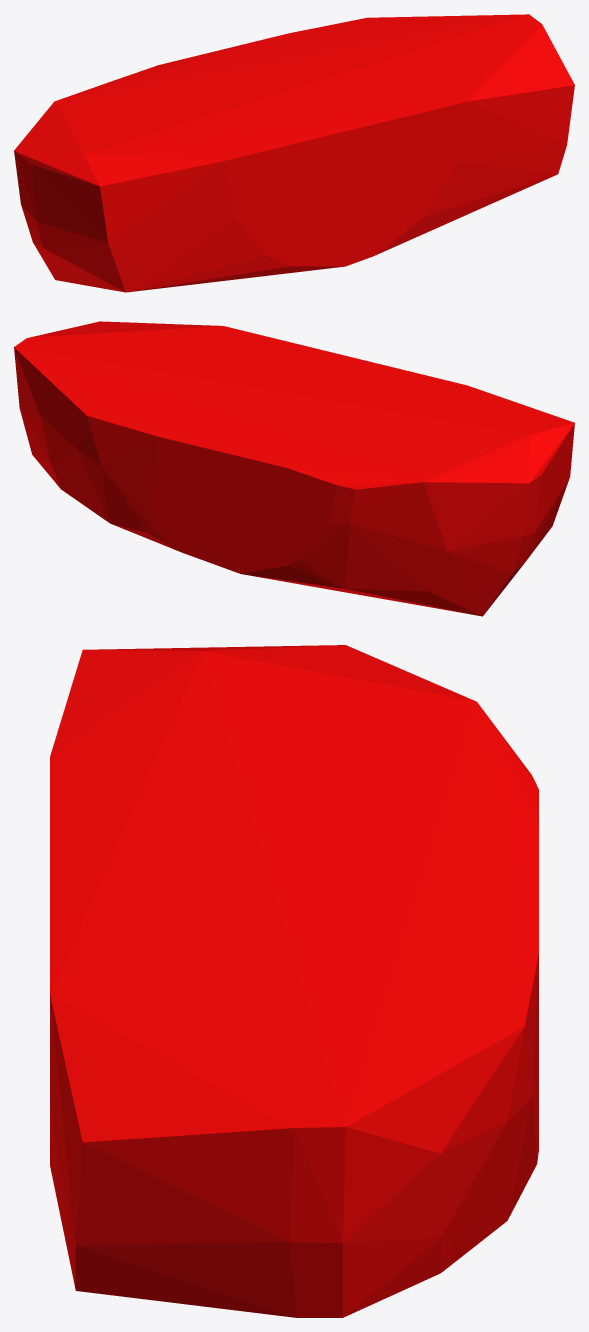
The model's file is tip_006_2_convex_hull_01.obj.
The picture shows the model from 3 angles, top to bottom: view 1: azimuth 30°, elevation 25°; view 2: azimuth 150°, elevation 25°; view 3: azimuth 270°, elevation 25°; orthographic projection. The views are drawn at different scales.
Parts seen in each view (by area): view 1: tip_006_2_convex_hull_01; view 2: tip_006_2_convex_hull_01; view 3: tip_006_2_convex_hull_01.
Part boxes in pixels (box(x1,y1,x2,y2)): tip_006_2_convex_hull_01: box(14, 14, 574, 292); tip_006_2_convex_hull_01: box(14, 321, 574, 616); tip_006_2_convex_hull_01: box(50, 645, 538, 1317).
Size of the model in its own units: 0.00482 by 0.00139 by 0.00198.
